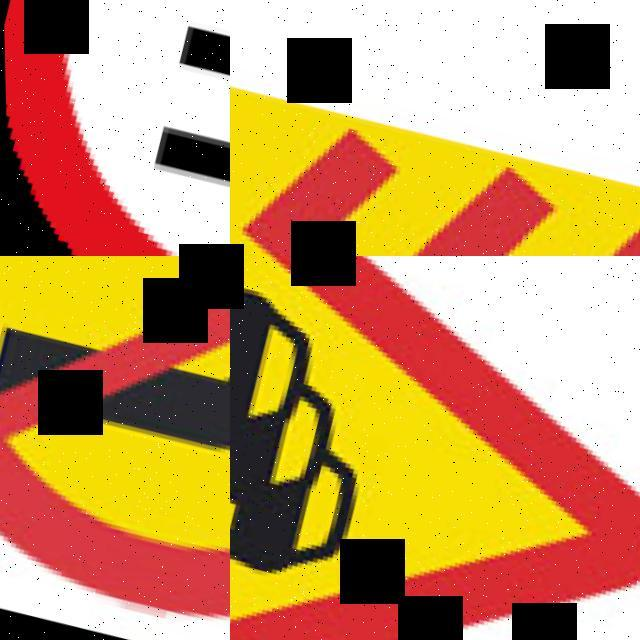147: (230, 256, 640, 640)
36: (0, 256, 230, 640)
4: (230, 65, 640, 256)
speed limit-110: (0, 0, 230, 256)
